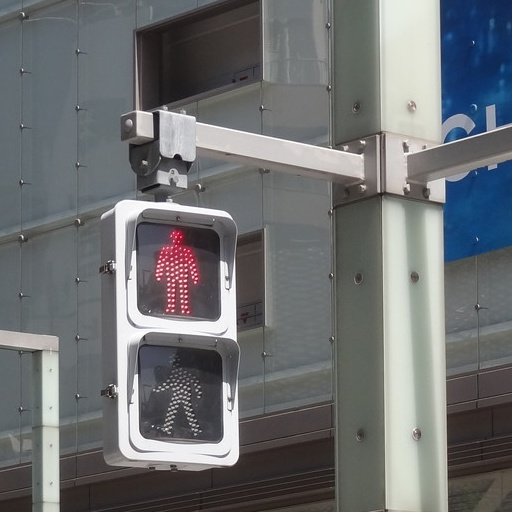Pedestrian_Signal_Red: (117, 185, 229, 453)
